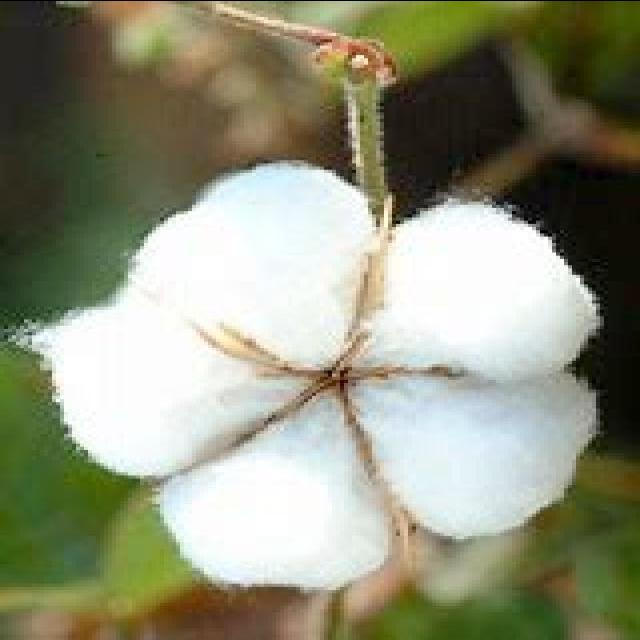Matured Cotton Boll: (14, 160, 592, 590)
